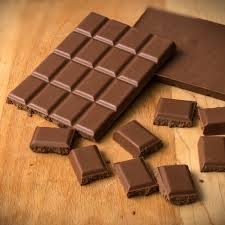Chocolate: (11, 11, 175, 147)
